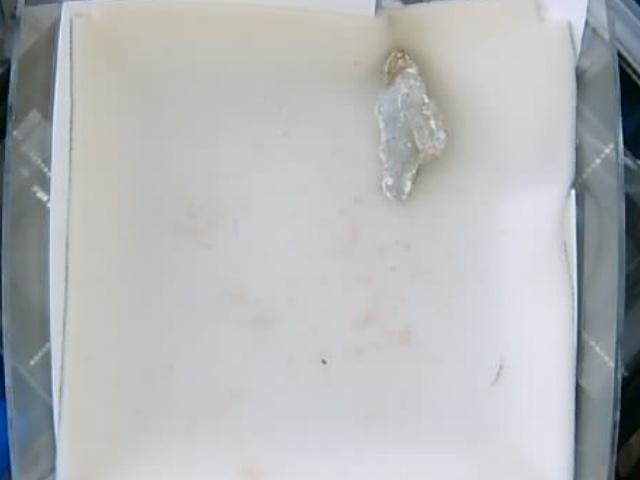Brisk: (379, 50, 448, 203)
